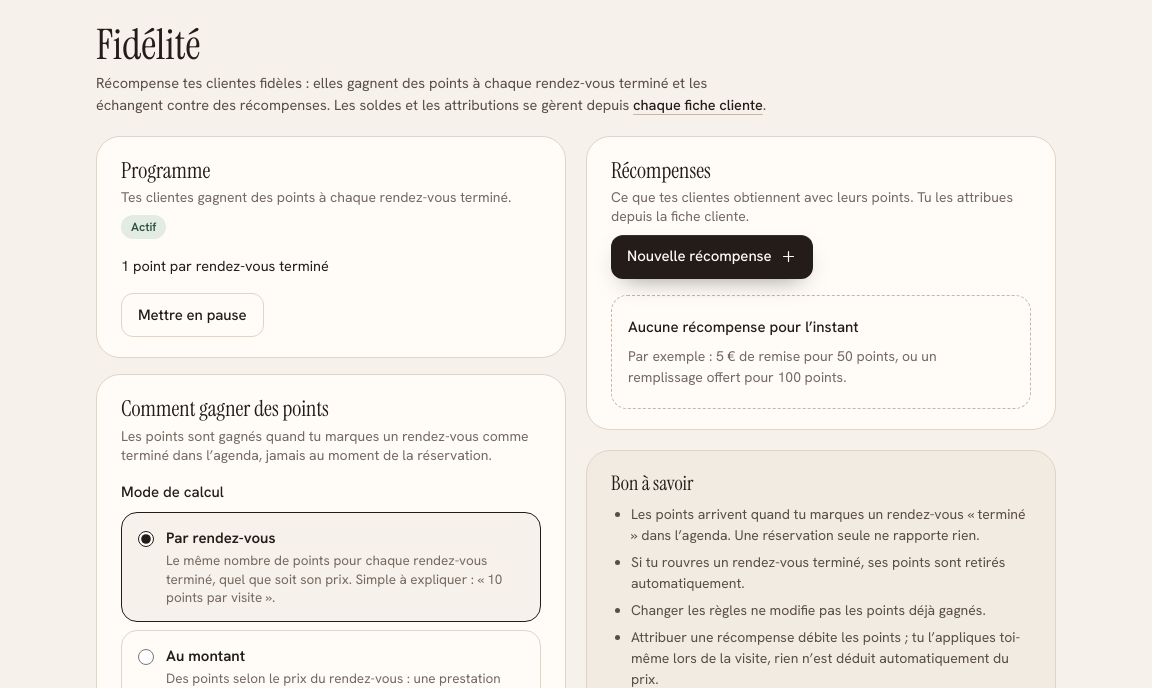
Test: program › saves the spend mode with the rate as an exact decimal string
The image size is (1152, 688).
Click the radio button labelled "Au montant" at (146, 657), box [138,649,154,665]
(page scrolled)
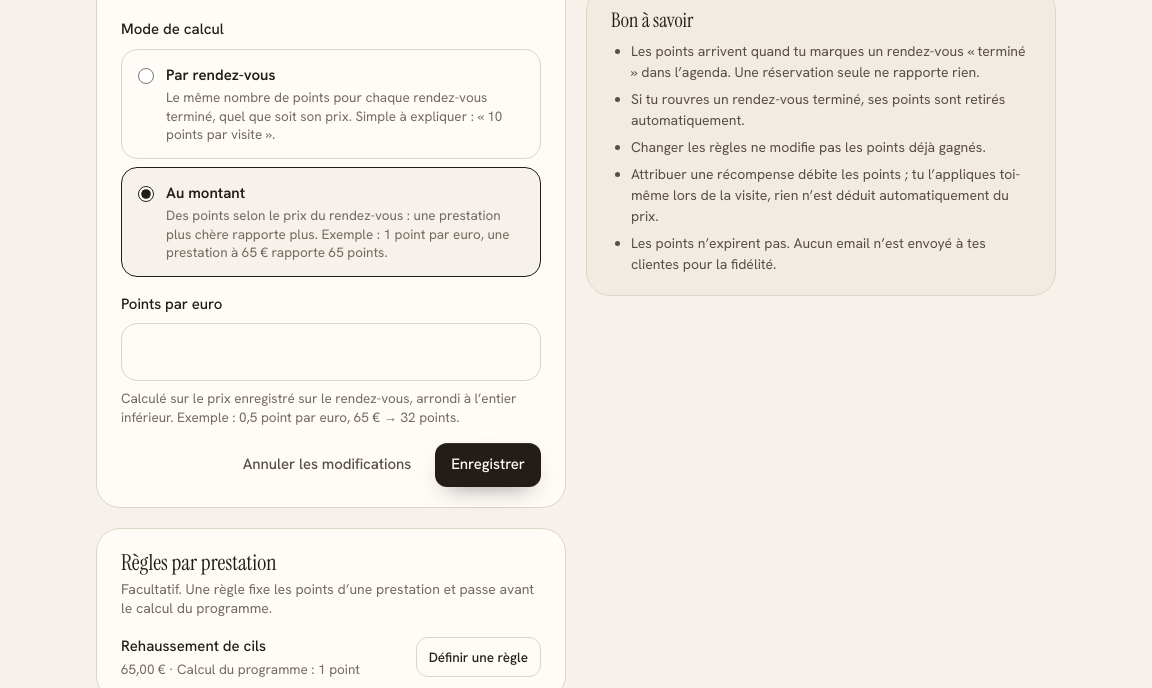
Type "1,5" into the field labelled "Points par euro" at (331, 352), box [122,324,540,380]
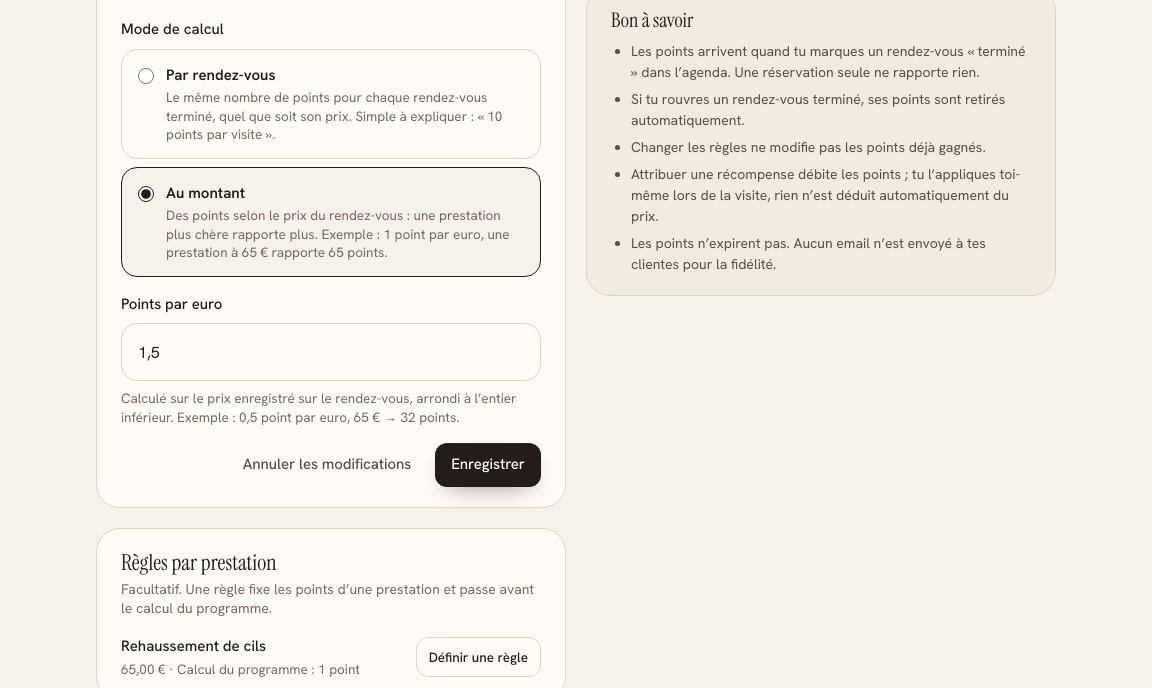
Click the button "Enregistrer" at (488, 464), box [435,442,541,486]
(page scrolled)
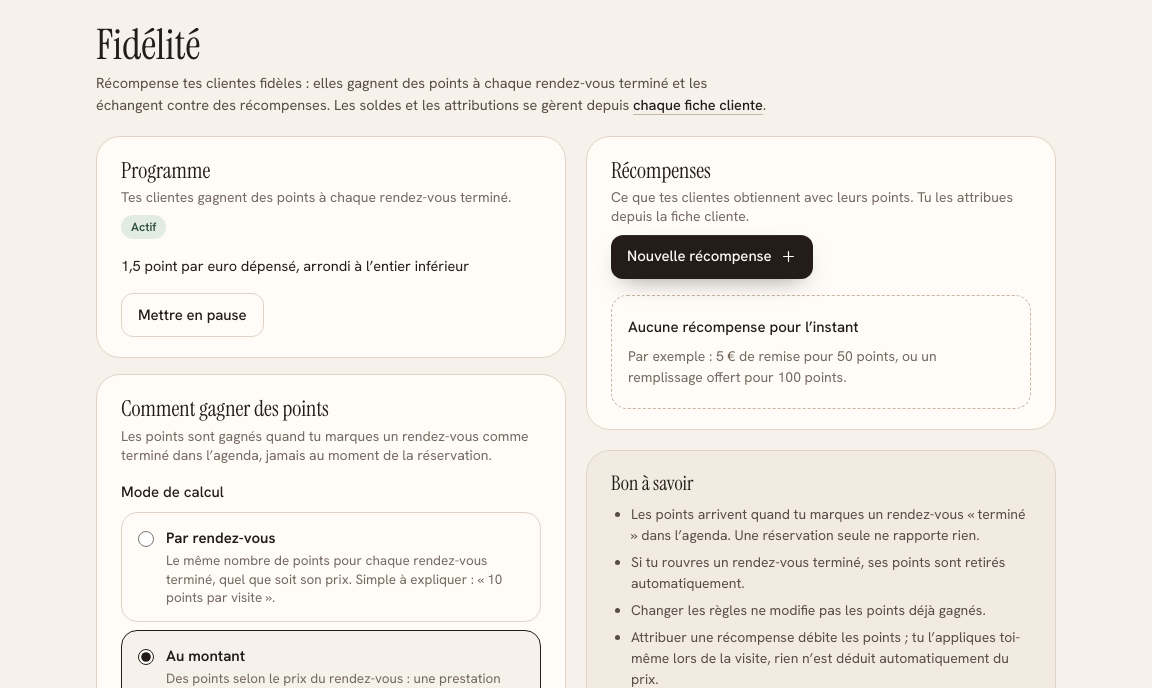
Check: the text "1,5 point par euro dépensé, arrondi à l’entier inférieur" is shown, box [121,256,469,275]
